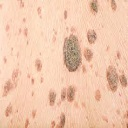Melanoma: (65, 33, 98, 72), (105, 64, 128, 92), (47, 86, 76, 107)
